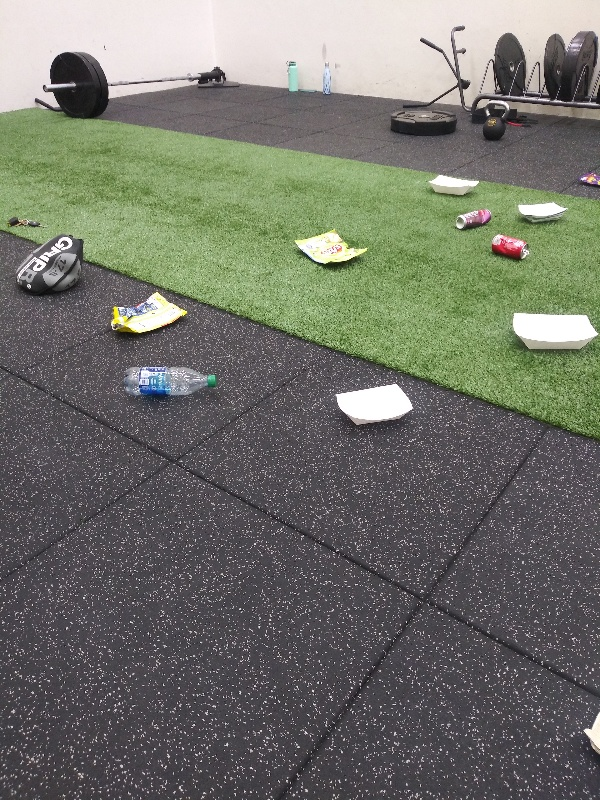bag: (109, 288, 192, 339), (291, 226, 372, 268), (581, 697, 600, 767), (574, 165, 600, 193)
bottle: (119, 360, 219, 402)
can: (488, 231, 533, 261), (452, 206, 495, 230)
plate: (507, 306, 600, 356), (331, 381, 418, 432), (424, 169, 481, 199), (515, 196, 570, 226)
